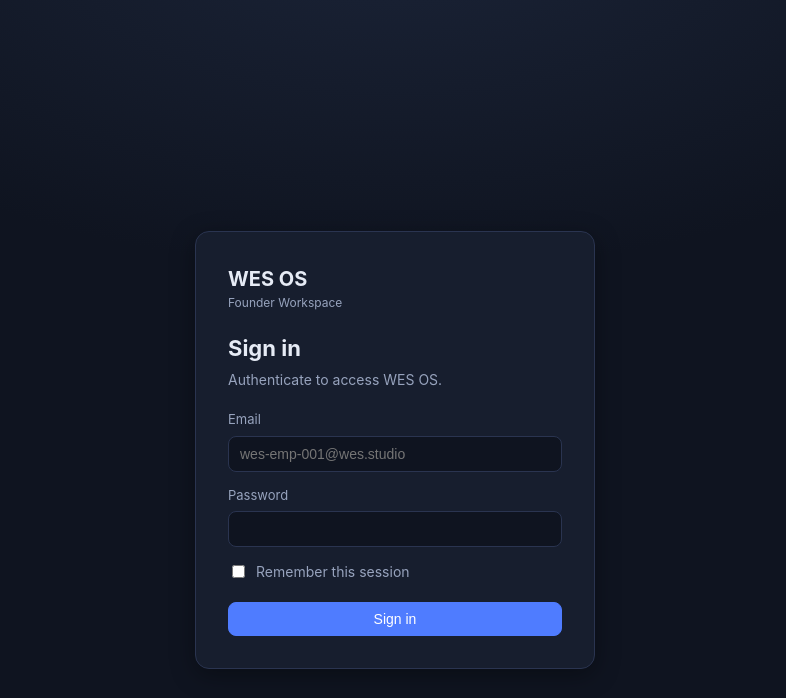
Test: Login › shows an error on invalid credentials
In the field labelled "Email": (395, 454) [228, 436, 562, 472], type "f@wes.studio"
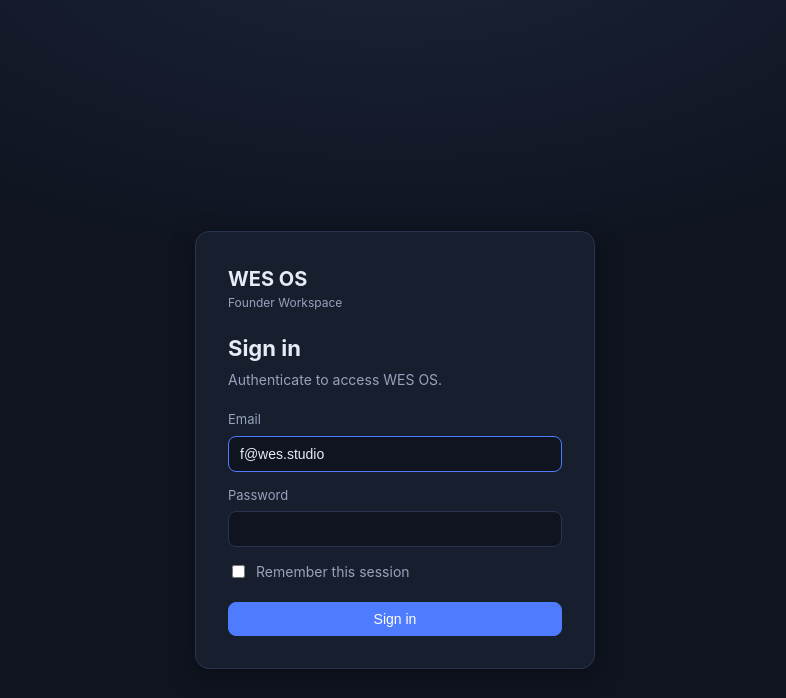
In the password field labelled "Password": (395, 529) [228, 511, 562, 547], type "wrong"
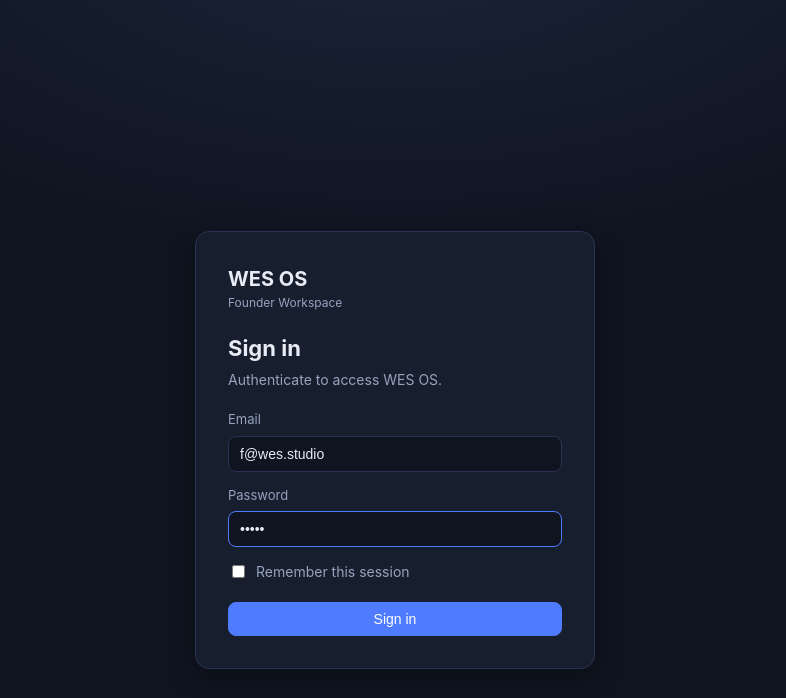
Click the button "Sign in": click(395, 619) [228, 602, 562, 636]
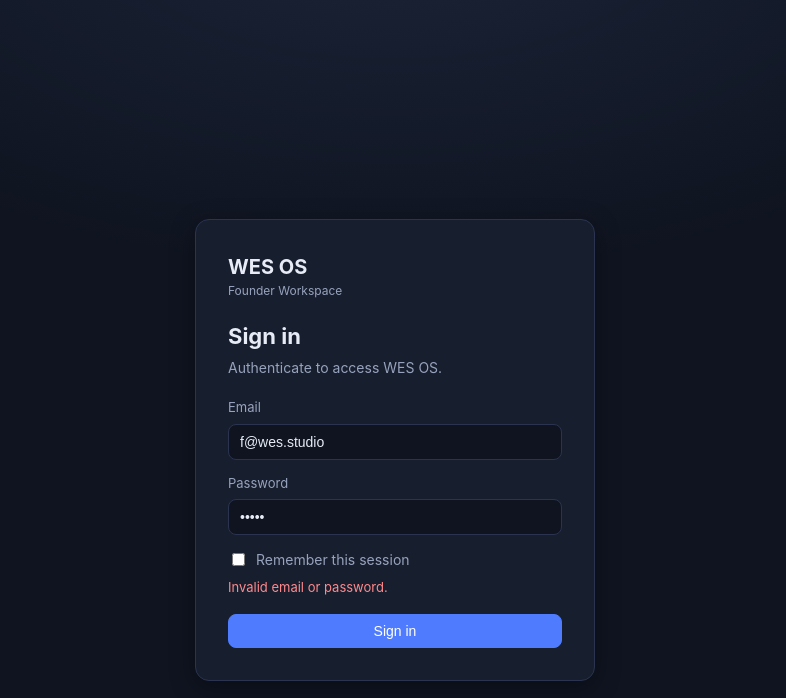
Result: the text "Invalid email or password." is shown at [228, 579, 388, 595]
